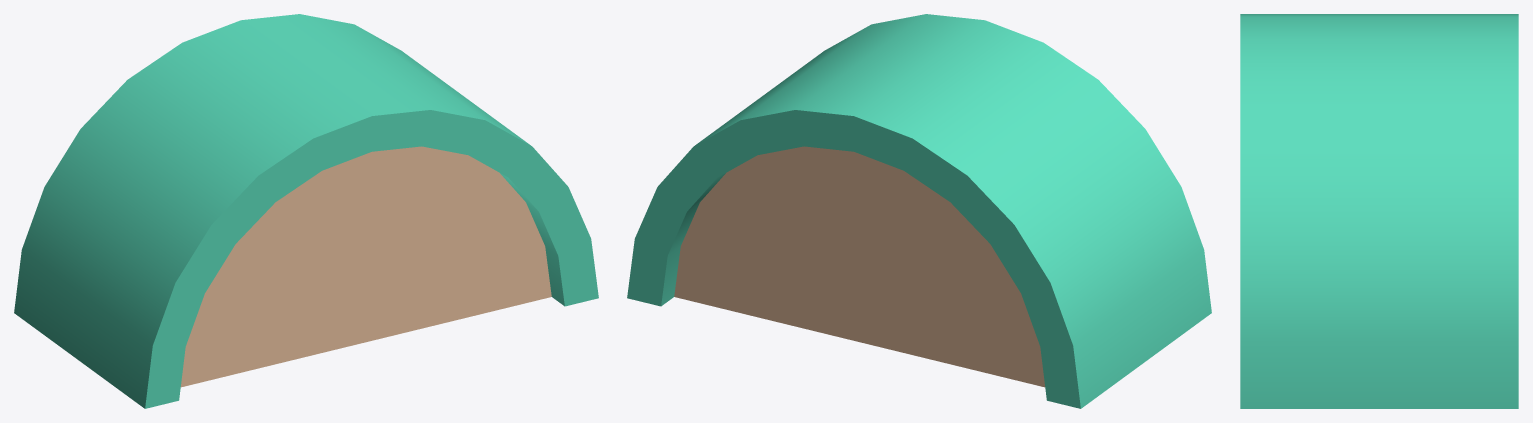
File: blockCurve.glb
3 views of the same model, side by side, from view 1: azimuth 30°, elevation 25°; view 2: azimuth 150°, elevation 25°; view 3: azimuth 270°, elevation 25° (orthographic). The views are drawn at different scales.
Parts seen in each view (by area): view 1: blockCurve; view 2: blockCurve; view 3: blockCurve.
Boxes of the visible parts, box(x1,y1,x2,y2) form: blockCurve: box(14, 14, 598, 408); blockCurve: box(627, 14, 1211, 408); blockCurve: box(1240, 14, 1518, 408).
Size of the model in its own units: 2 by 1 by 1.
